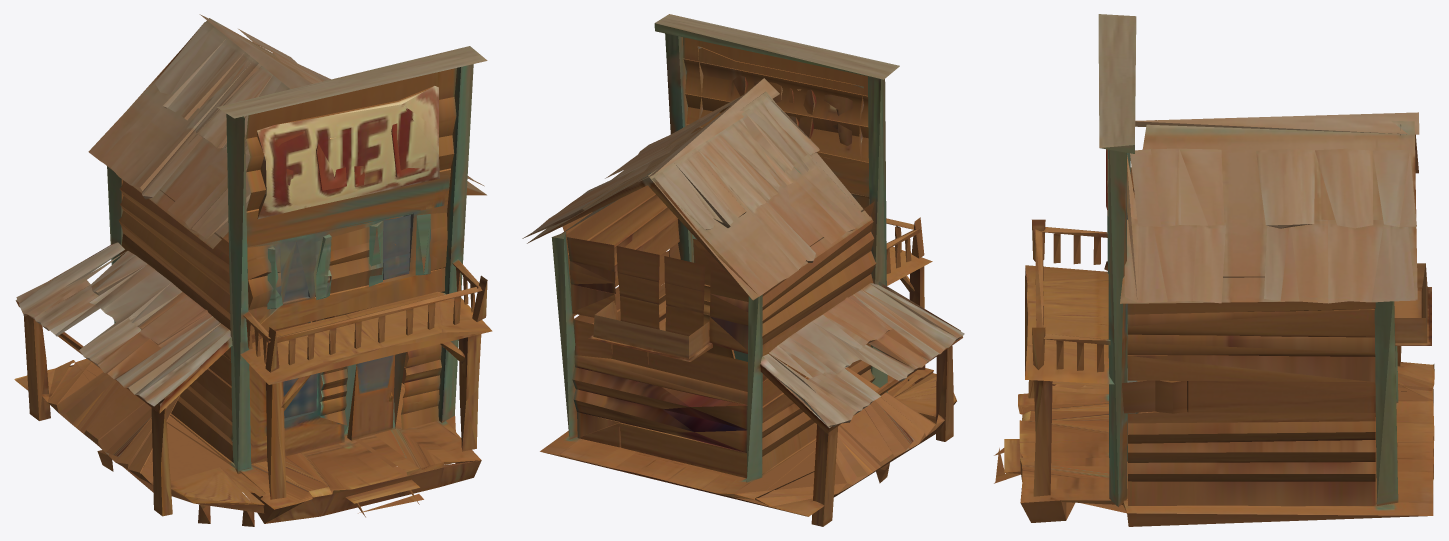
File: wl_fuel_store_far.glb
The picture shows the model from 3 angles, left to right: view 1: azimuth 30°, elevation 25°; view 2: azimuth 150°, elevation 25°; view 3: azimuth 270°, elevation 25°; orthographic projection. The views are drawn at different scales.
Parts seen in each view (by area): view 1: wl_fuel_store; view 2: wl_fuel_store; view 3: wl_fuel_store.
Boxes of the visible parts, <box> form: wl_fuel_store: <box>14,14,492,526</box>; wl_fuel_store: <box>522,14,964,526</box>; wl_fuel_store: <box>994,14,1434,526</box>.
Bounding box in the file's own units: 7.45 × 8 × 7.86.
Materials: 1 (1 with a texture image).
